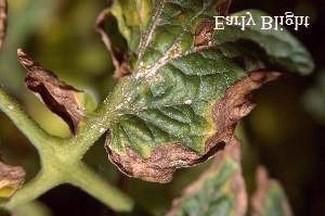Tomato Early blight leaf: (106, 0, 291, 180)
